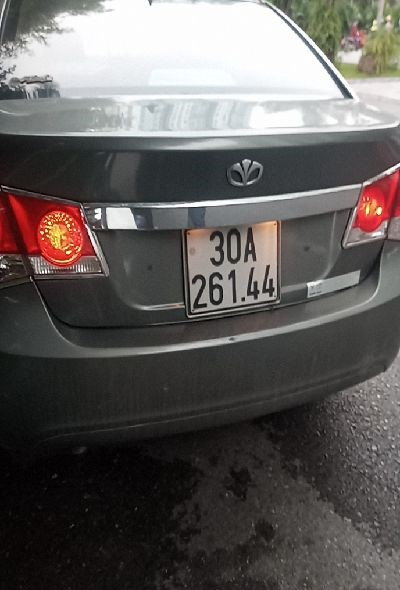number_plate: (180, 215, 298, 321)
